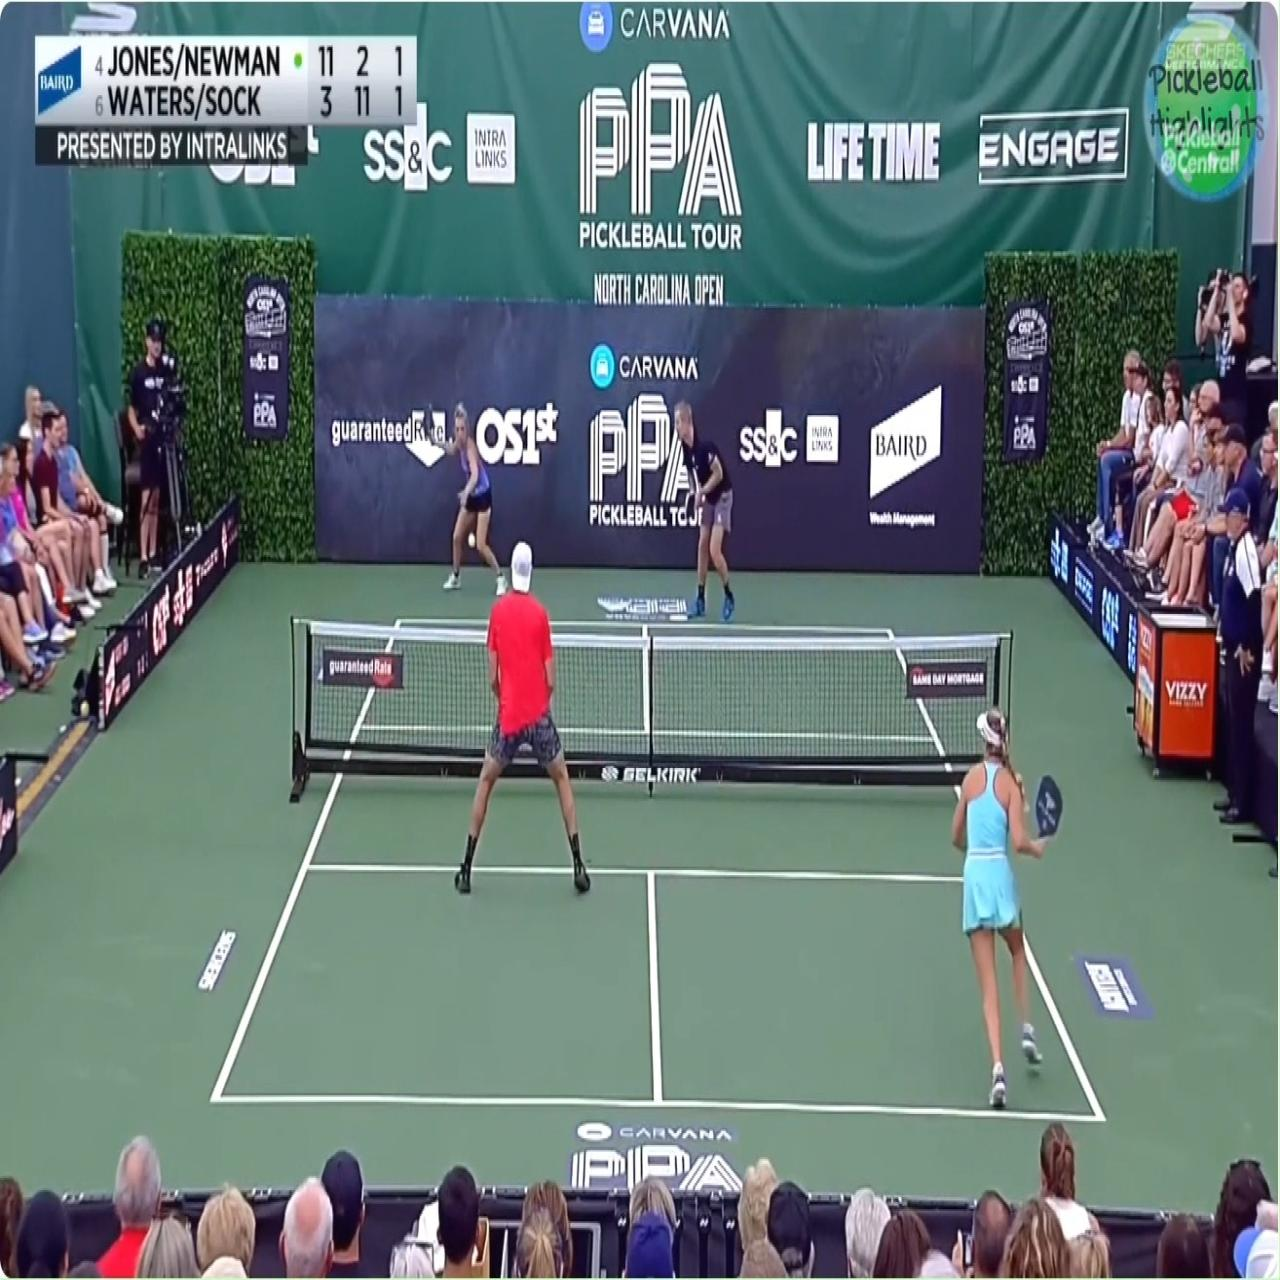pickleball: (468, 532, 476, 549)
